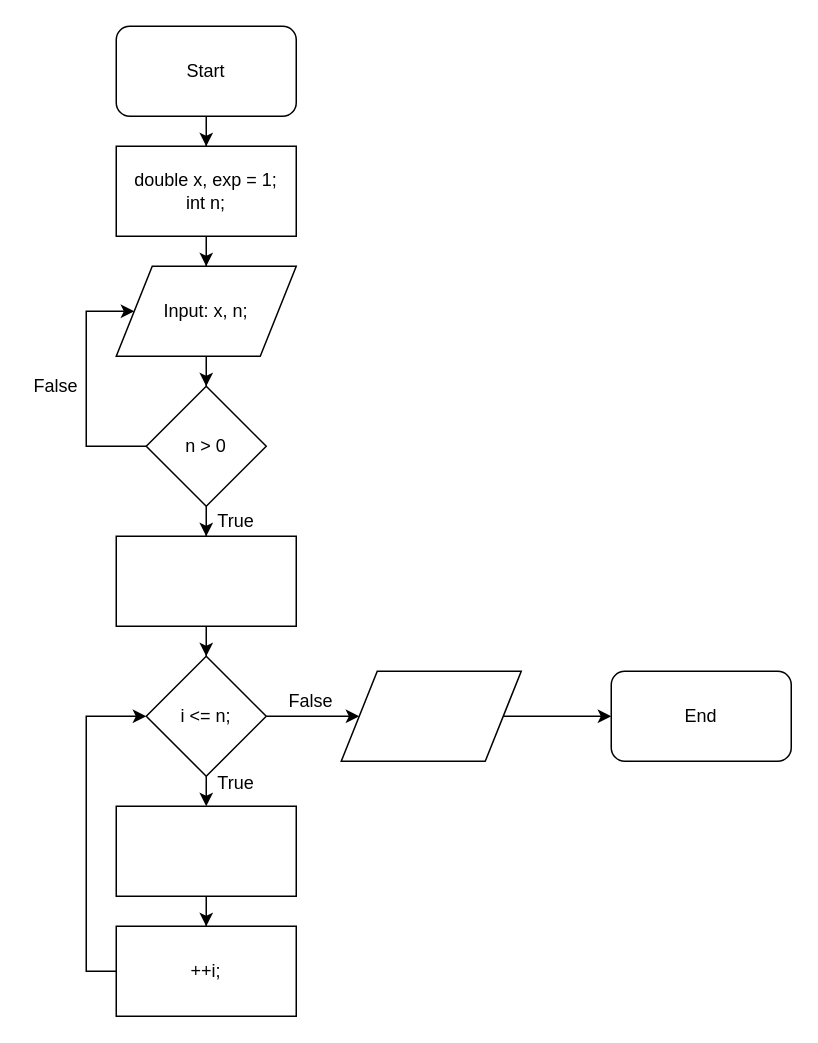
This 818x1043 diagram has some shape labels left out. Each missing label, with the centre of its shape:
"exp *= x" goes at point 205,850.
"int i = 1;" goes at point 205,580.
"Output: exp" goes at point 430,715.
